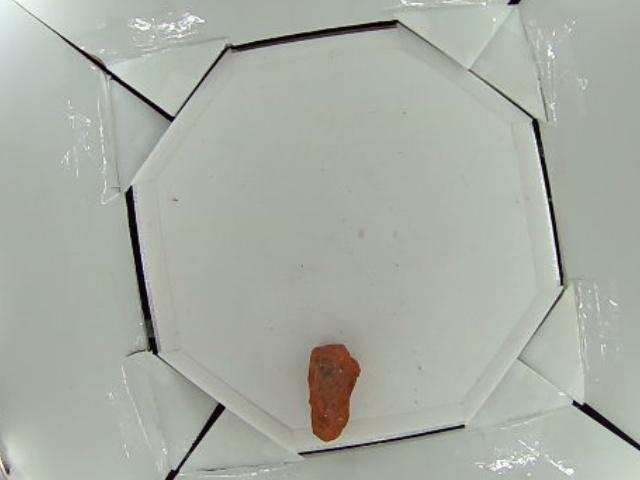Brisk: (308, 344, 359, 441)
